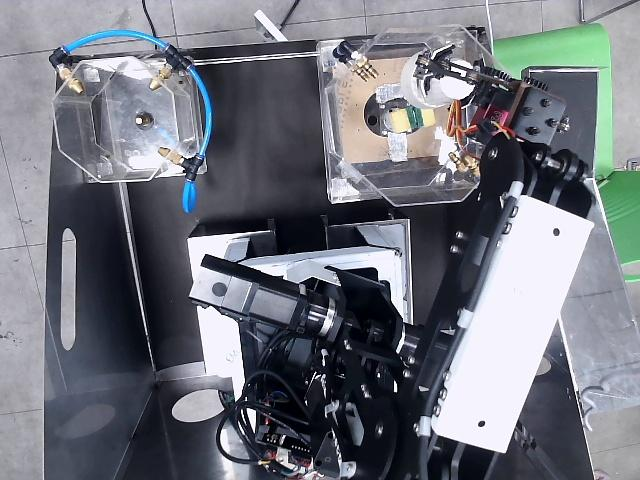cup: (400, 50, 473, 108), (453, 57, 470, 75)
